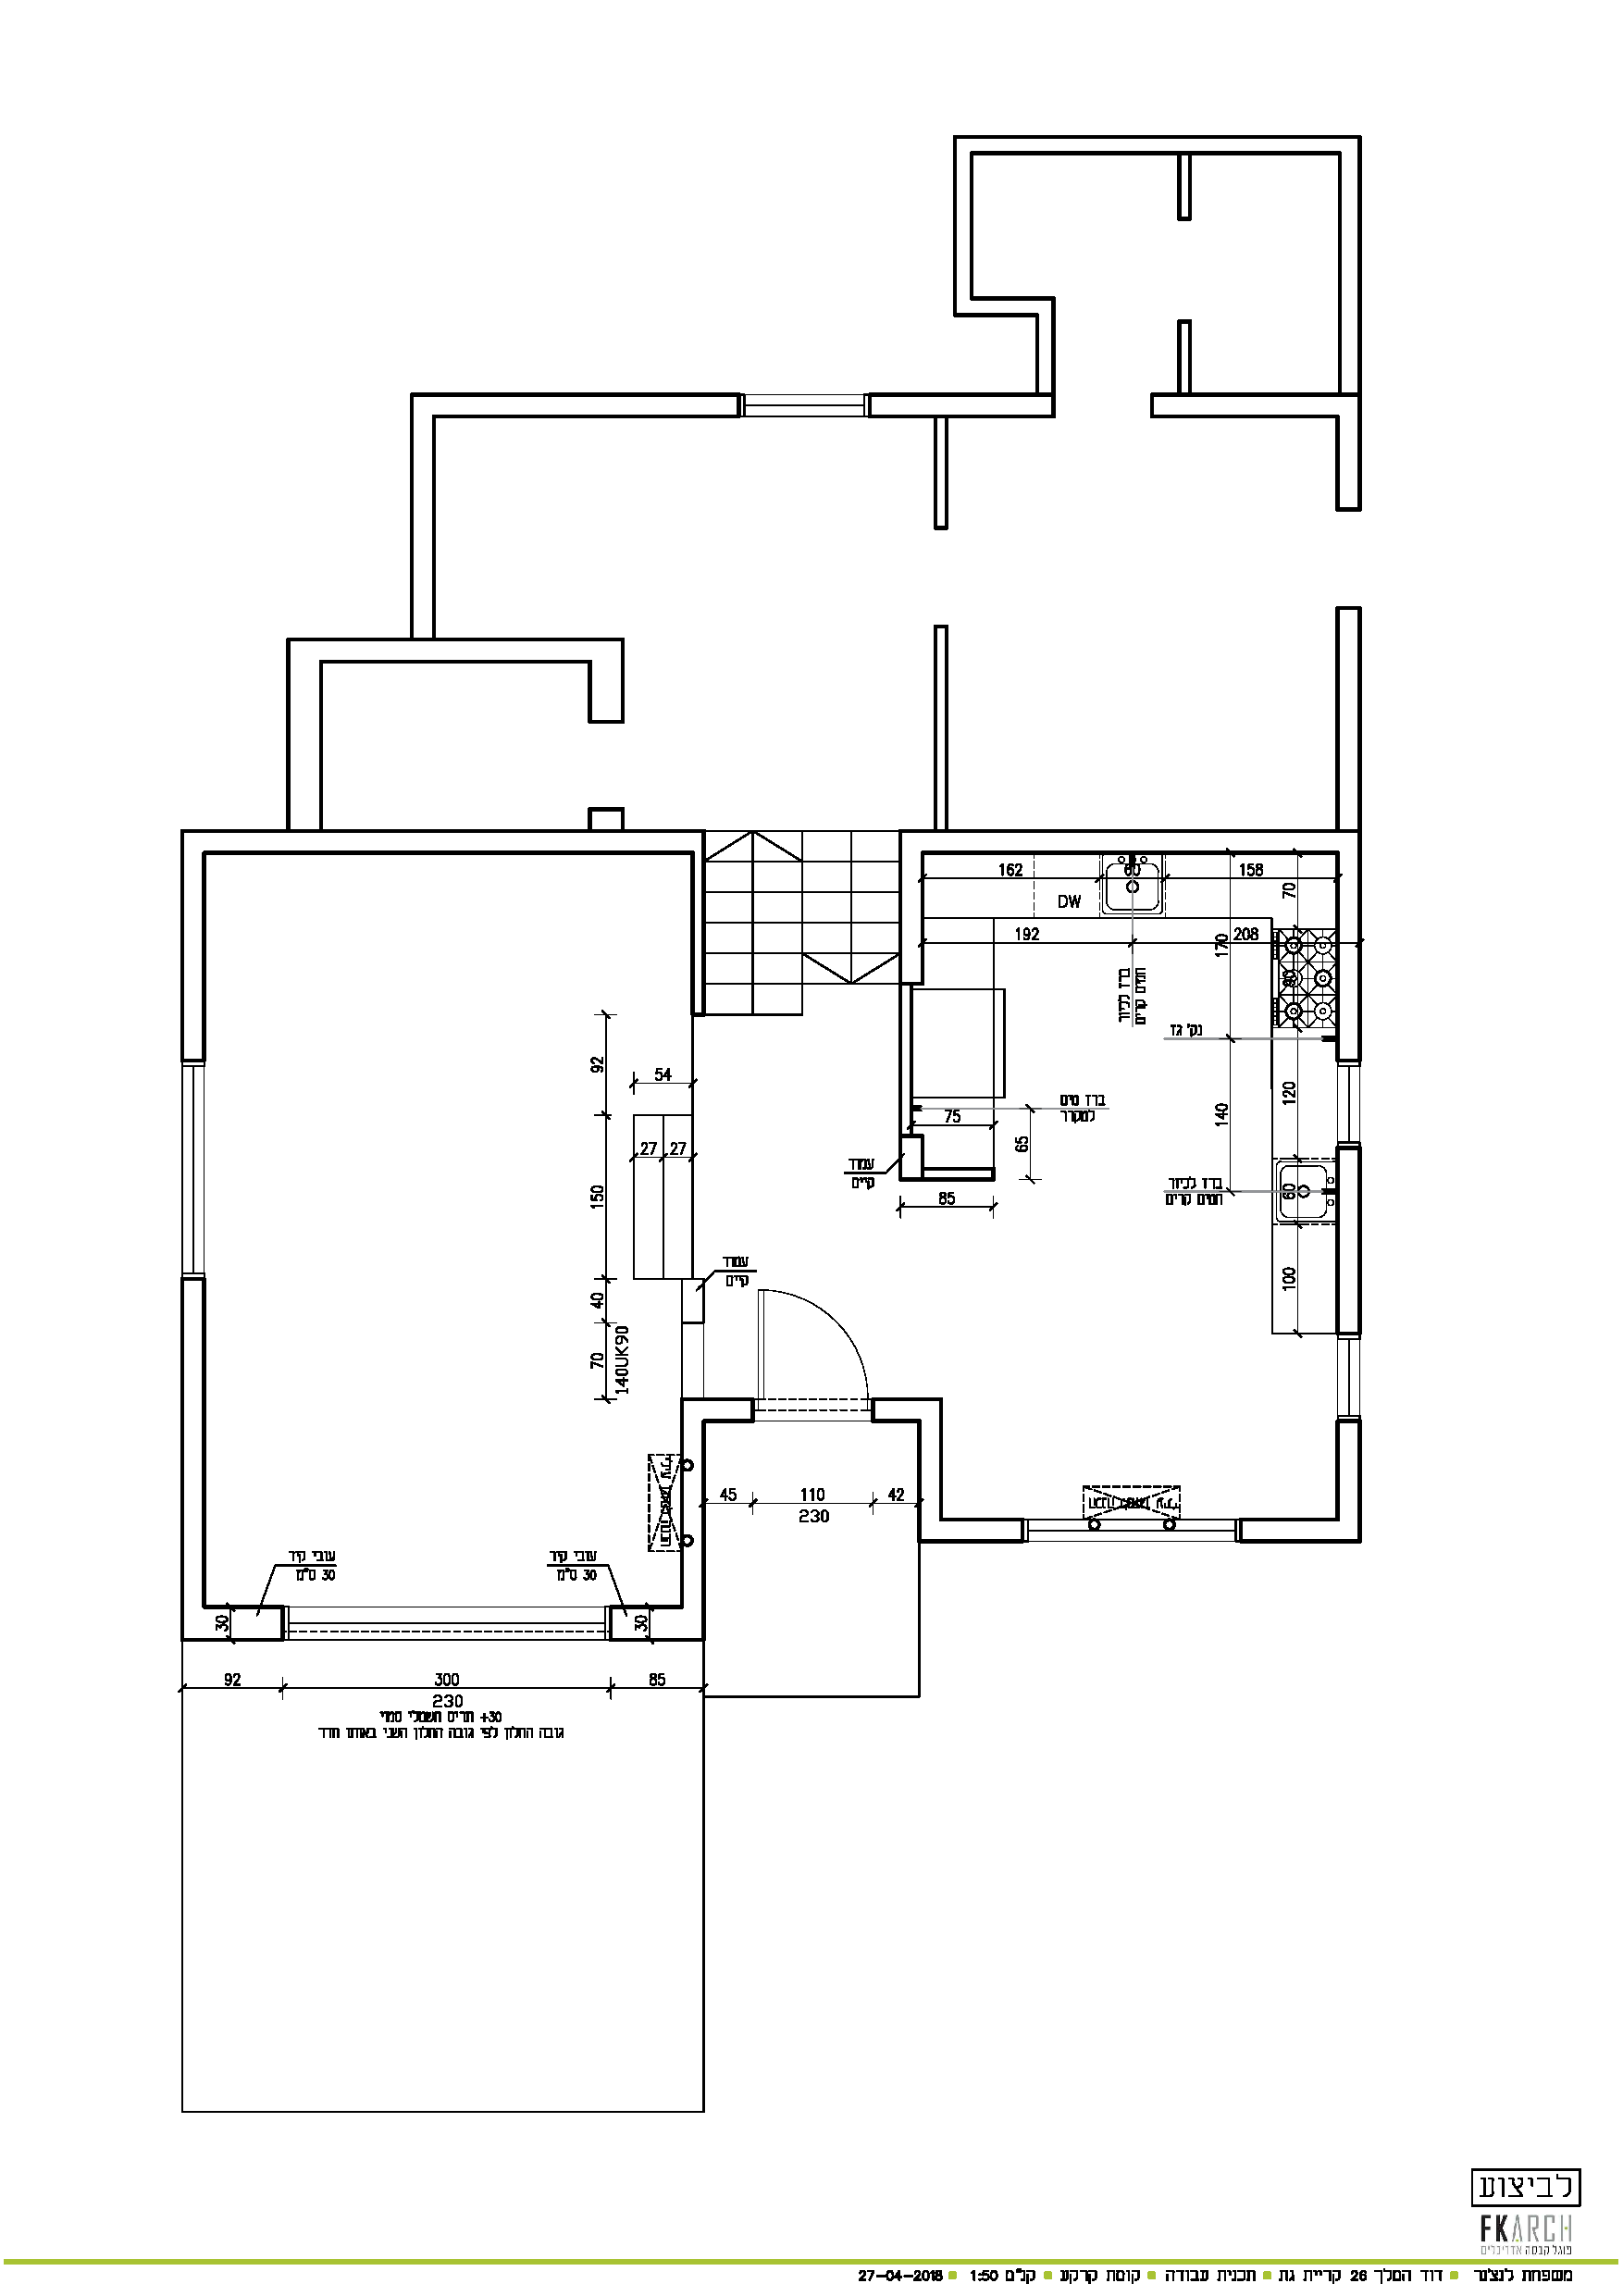door: (755, 1282, 869, 1388)
wall: (183, 826, 692, 854), (286, 638, 321, 820), (956, 139, 1358, 153), (413, 392, 436, 631), (934, 624, 949, 826)
window: (281, 1606, 610, 1637), (736, 392, 871, 416), (1338, 1059, 1360, 1147), (1338, 1333, 1358, 1418)
